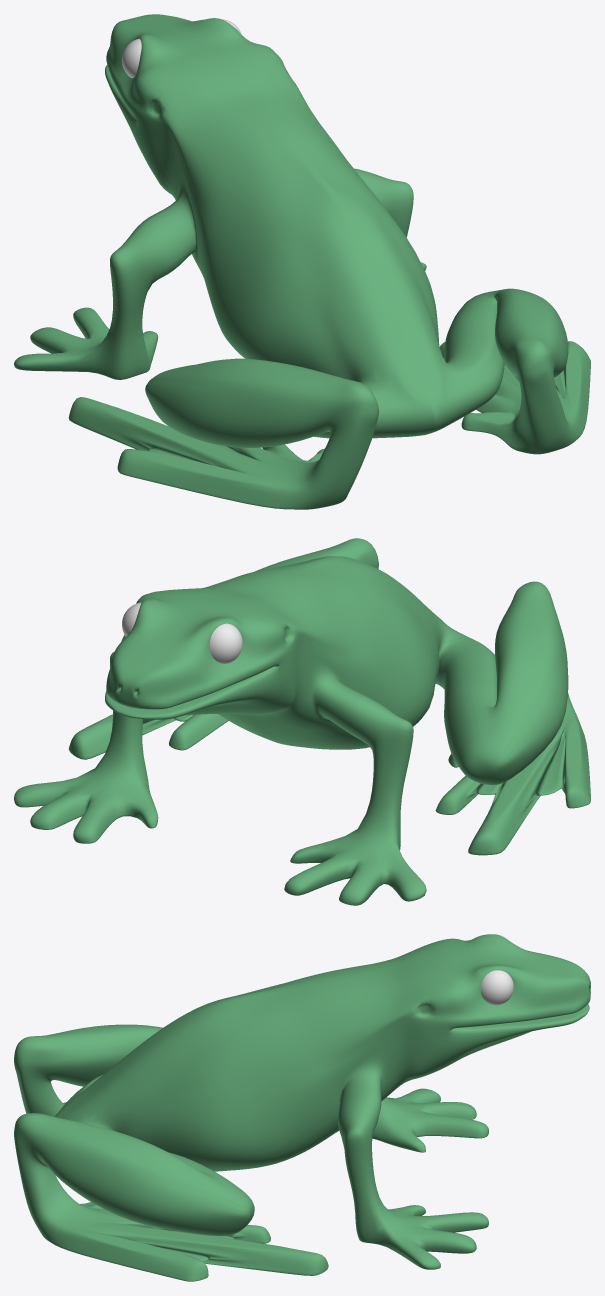
Rendered from FrogTryning2.fbx.
The picture shows the model from 3 angles, top to bottom: view 1: azimuth 30°, elevation 25°; view 2: azimuth 150°, elevation 25°; view 3: azimuth 270°, elevation 25°; orthographic projection. The views are drawn at different scales.
Visible parts, largest first — view 1: Cube, Sphere; view 2: Cube, Sphere; view 3: Cube, Sphere.
Part boxes in pixels (x1,y1,x2,y2): Cube: [14, 14, 590, 509]; Sphere: [122, 19, 241, 78]; Cube: [14, 538, 590, 905]; Sphere: [122, 602, 242, 663]; Cube: [14, 934, 590, 1281]; Sphere: [480, 934, 513, 1005].
Size of the model in its own units: 1034 by 557 by 1249.
